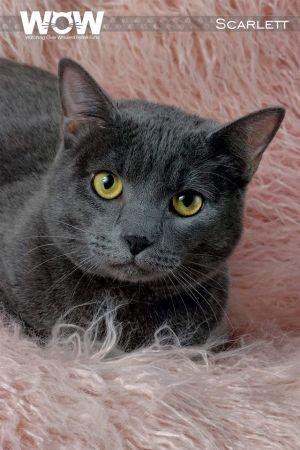rblue: (25, 43, 290, 312)
